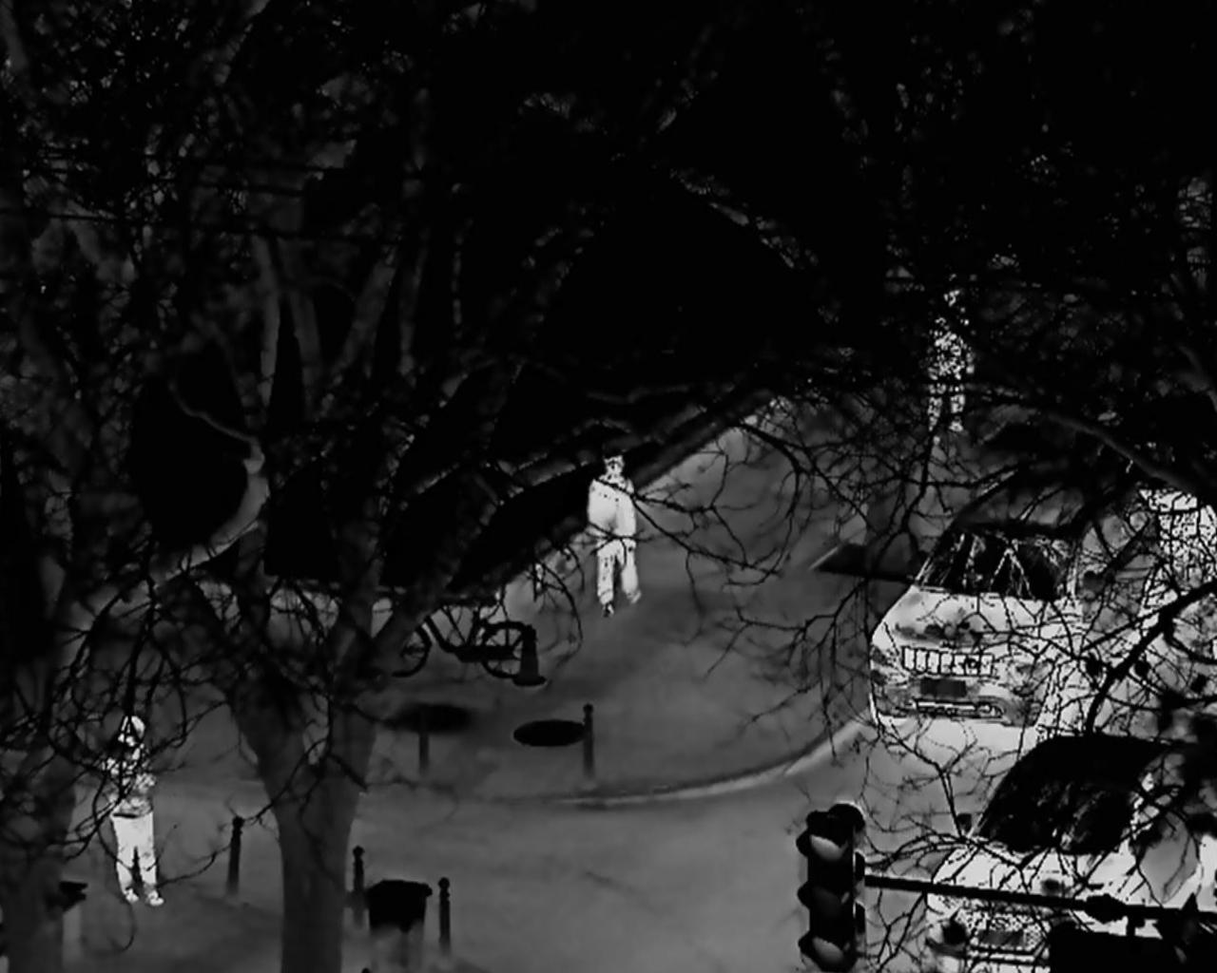person: (103, 715, 163, 906), (586, 456, 645, 622), (930, 279, 972, 435)
